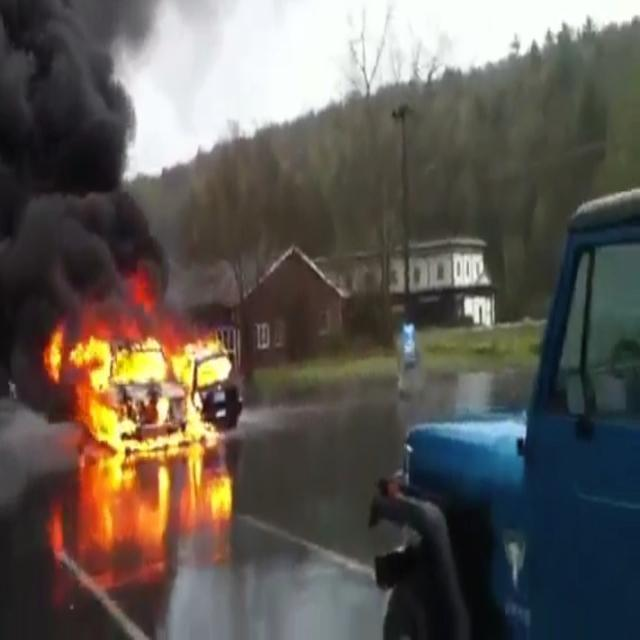fire: (76, 307, 184, 465), (184, 332, 240, 464)
